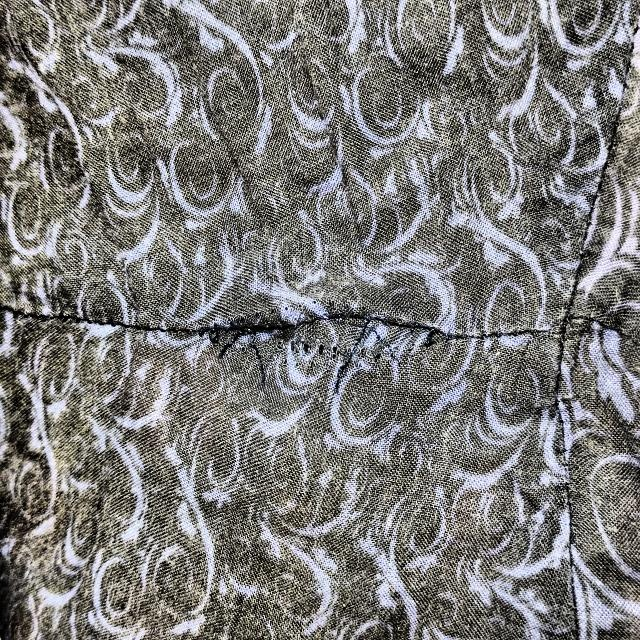seam: (175, 245, 481, 422)
